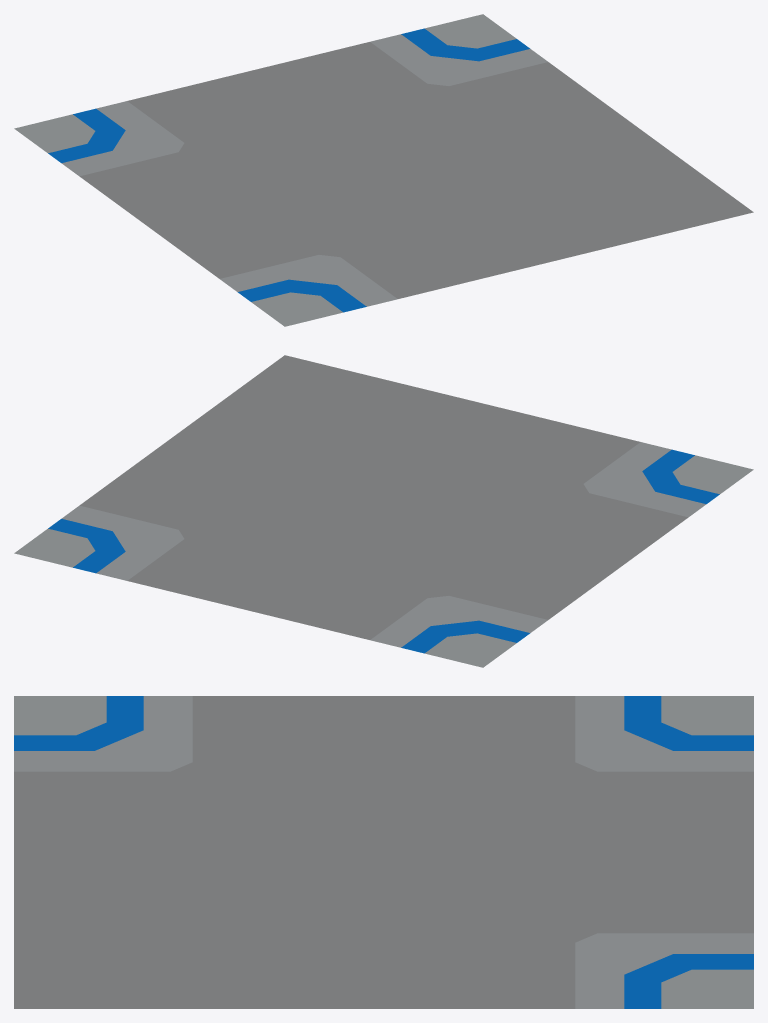
Rendered from Ceiling_type_B_006.fbx.
3 renders of one model, top to bottom at view 1: azimuth 30°, elevation 25°; view 2: azimuth 150°, elevation 25°; view 3: azimuth 270°, elevation 25°, orthographic. The views are drawn at different scales.
Visible parts, largest first — view 1: Ceiling_type_B_006; view 2: Ceiling_type_B_006; view 3: Ceiling_type_B_006.
Boxes of the visible parts, x1,y1,x2,y2 form: Ceiling_type_B_006: (14, 14, 753, 326); Ceiling_type_B_006: (14, 355, 753, 667); Ceiling_type_B_006: (14, 696, 753, 1008).
Size of the model in its own units: 400 by 400 by 4.55.
